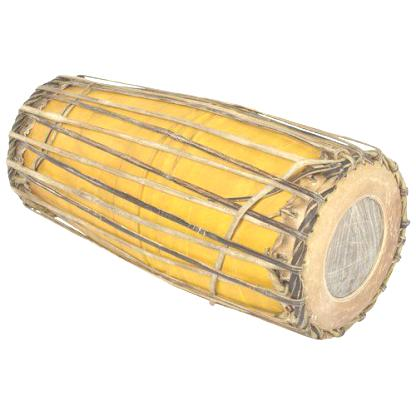Mridangam: (5, 71, 411, 349)
